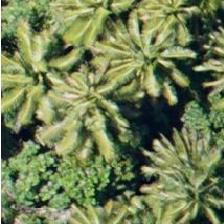Kelapa_Sawit: (100, 9, 190, 99), (43, 56, 133, 146), (0, 34, 81, 124), (146, 135, 224, 224), (126, 0, 216, 59), (55, 0, 145, 56)
